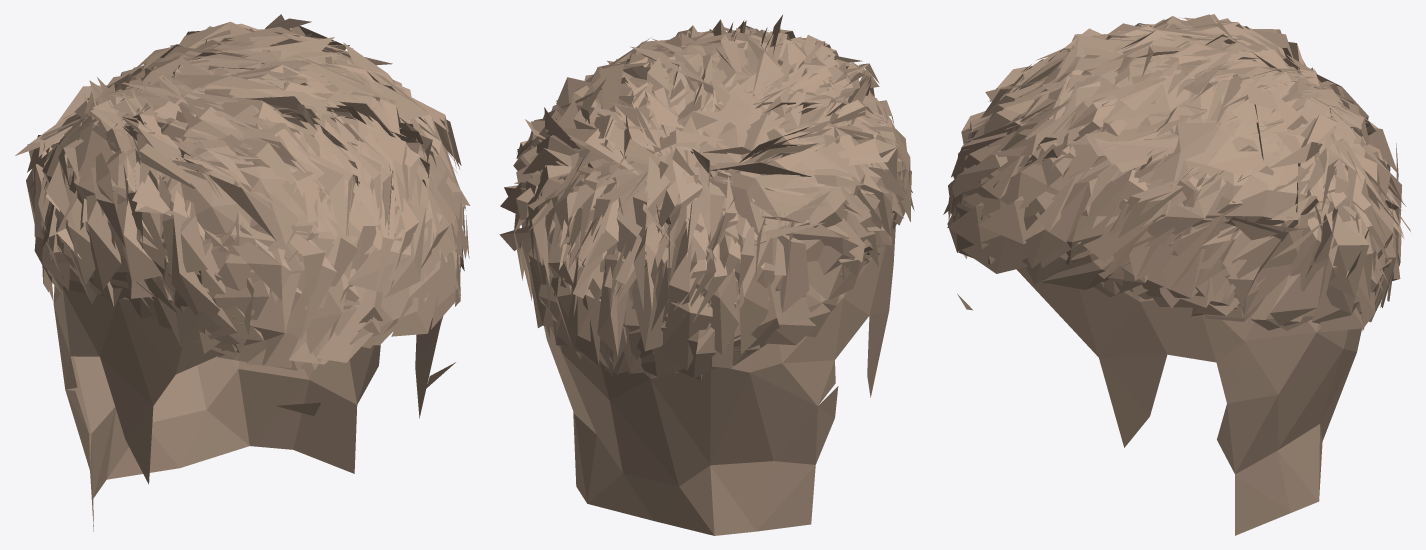
File: male_hair_03_lod1.glb
The picture shows the model from 3 angles, left to right: view 1: azimuth 30°, elevation 25°; view 2: azimuth 150°, elevation 25°; view 3: azimuth 270°, elevation 25°; orthographic projection. The views are drawn at different scales.
Visible parts, largest first — view 1: hair_03; view 2: hair_03; view 3: hair_03.
Boxes of the visible parts, x1,y1,x2,y2 form: hair_03: (15, 14, 470, 531); hair_03: (499, 15, 914, 535); hair_03: (943, 14, 1410, 535).
Size of the model in its own units: 0.1597 by 0.1967 by 0.1915.
